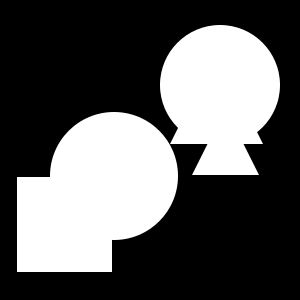circle: (17, 177, 112, 272)
rectangle: (50, 112, 178, 240), (160, 25, 280, 145)
triangle: (170, 51, 263, 144), (192, 108, 259, 175)
